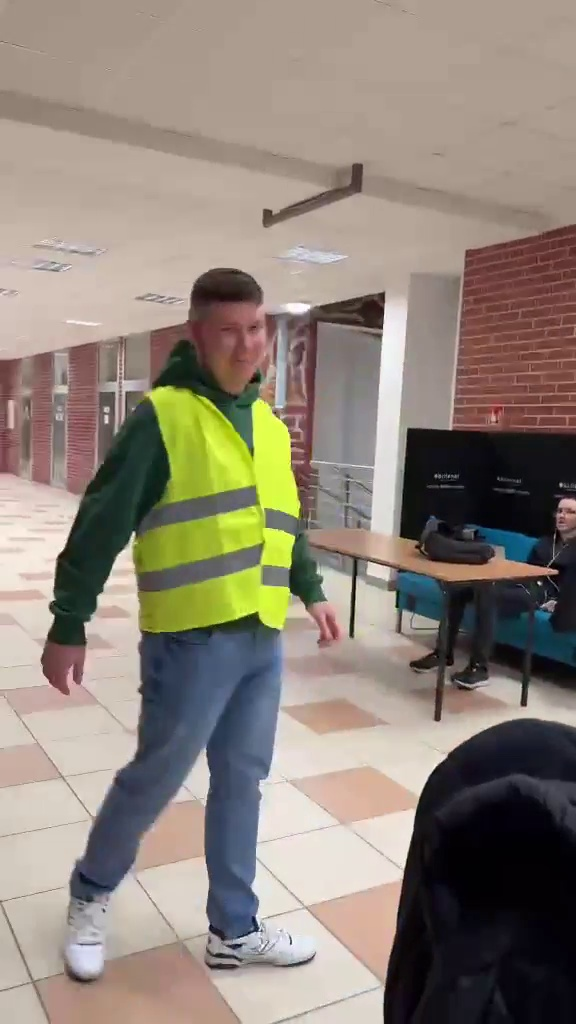no vest: (441, 480, 576, 633)
vest: (40, 268, 345, 985)
